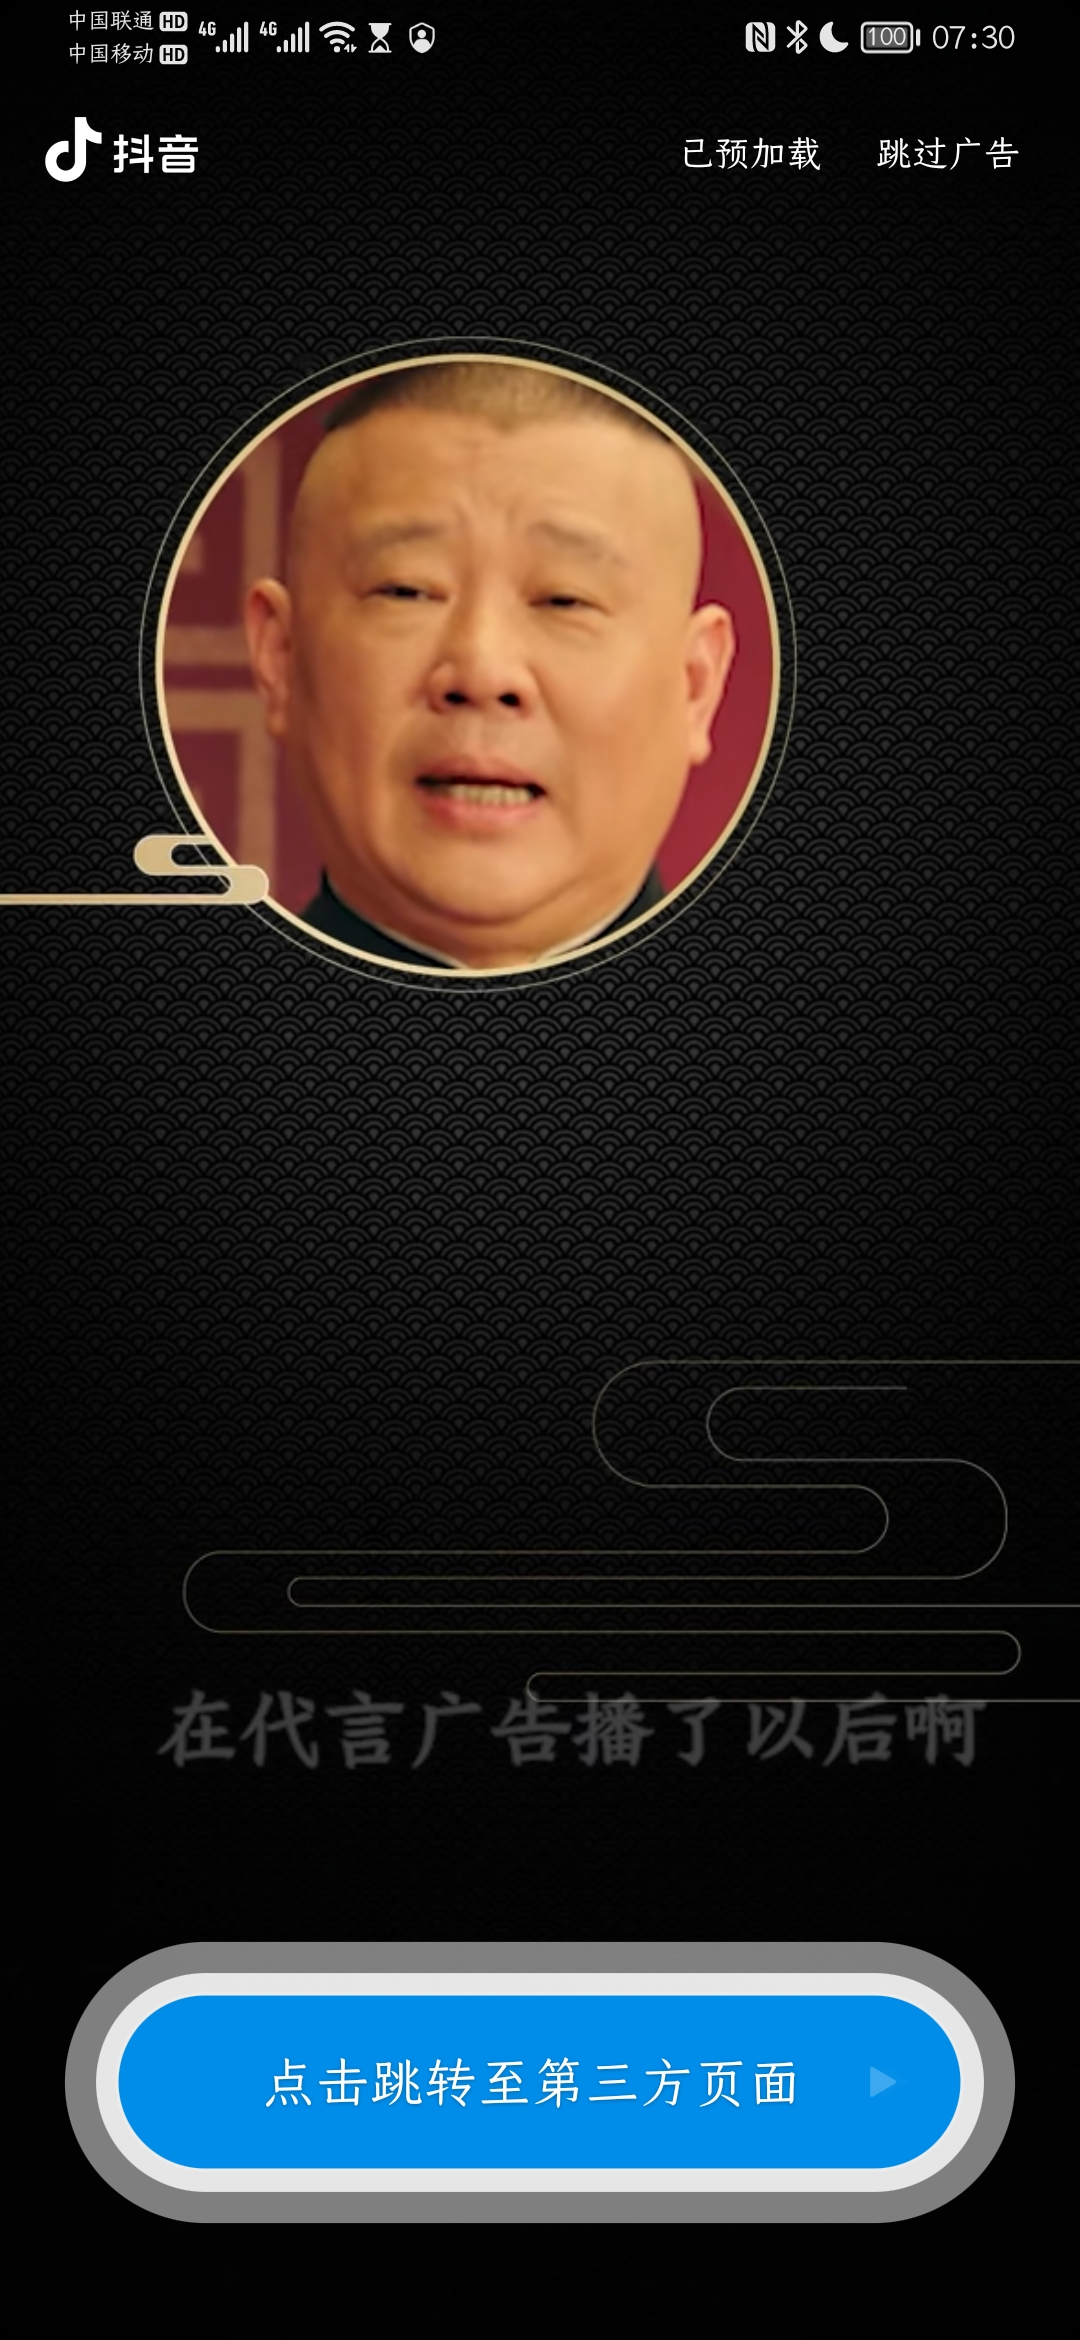skip: (870, 122, 1032, 187)
